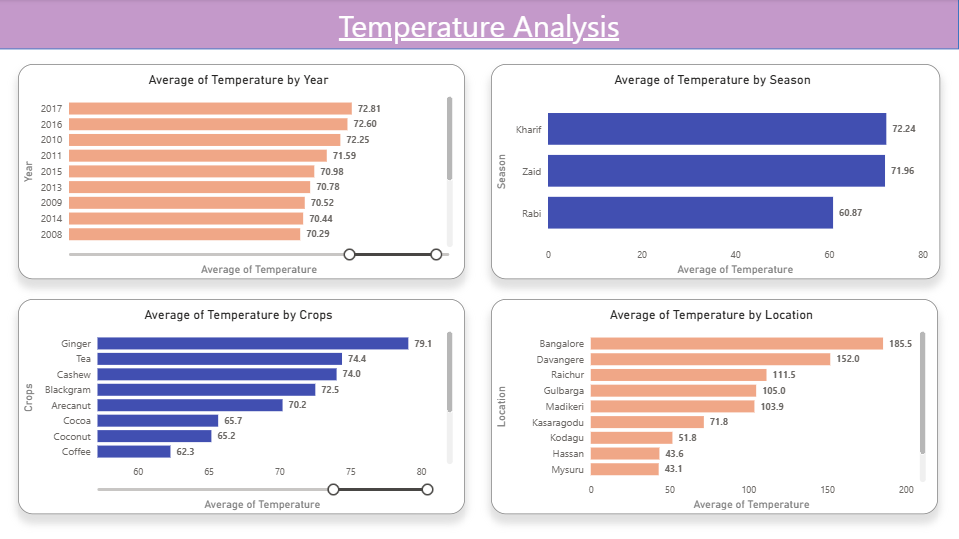

The page's visual inventory and layout, read from the dashboard file:
{"tool":"powerbi","page":{"name":"Temperature Analysis","canvas":[1280,720],"ordinal":1},"visuals":[{"type":"shape","box":[0,0,1280,67.1],"z":0},{"type":"barChart","fields":{"Category":["AGRICULTURE.YEAR"],"Y":["Avg(AGRICULTURE.TEMPERATURE)"]},"box":[25.7,87.1,595.7,287.1],"z":1000},{"type":"barChart","fields":{"Category":["AGRICULTURE.SEASON"],"Y":["Avg(AGRICULTURE.TEMPERATURE)"]},"box":[655.7,87.1,598.6,287.1],"z":2000},{"type":"barChart","fields":{"Category":["AGRICULTURE.CROPS"],"Y":["Avg(AGRICULTURE.TEMPERATURE)"]},"box":[25.7,400,595.7,287.1],"z":3000},{"type":"barChart","fields":{"Y":["Avg(AGRICULTURE.TEMPERATURE)"],"Category":["AGRICULTURE.LOCATION"]},"box":[655.7,400,595.7,287.1],"z":4000}]}

Visuals, with their boxes in screenshot pixels (x1, y1, x2, y2), scaled from the page's 1280x720 canvas onto the 959x539 screenshot:
shape: 0, 0, 958, 50
barChart - AGRICULTURE.YEAR x Avg(AGRICULTURE.TEMPERATURE): 19, 65, 466, 280
barChart - AGRICULTURE.SEASON x Avg(AGRICULTURE.TEMPERATURE): 491, 65, 940, 280
barChart - AGRICULTURE.CROPS x Avg(AGRICULTURE.TEMPERATURE): 19, 299, 466, 514
barChart - Avg(AGRICULTURE.TEMPERATURE) x AGRICULTURE.LOCATION: 491, 299, 938, 514
